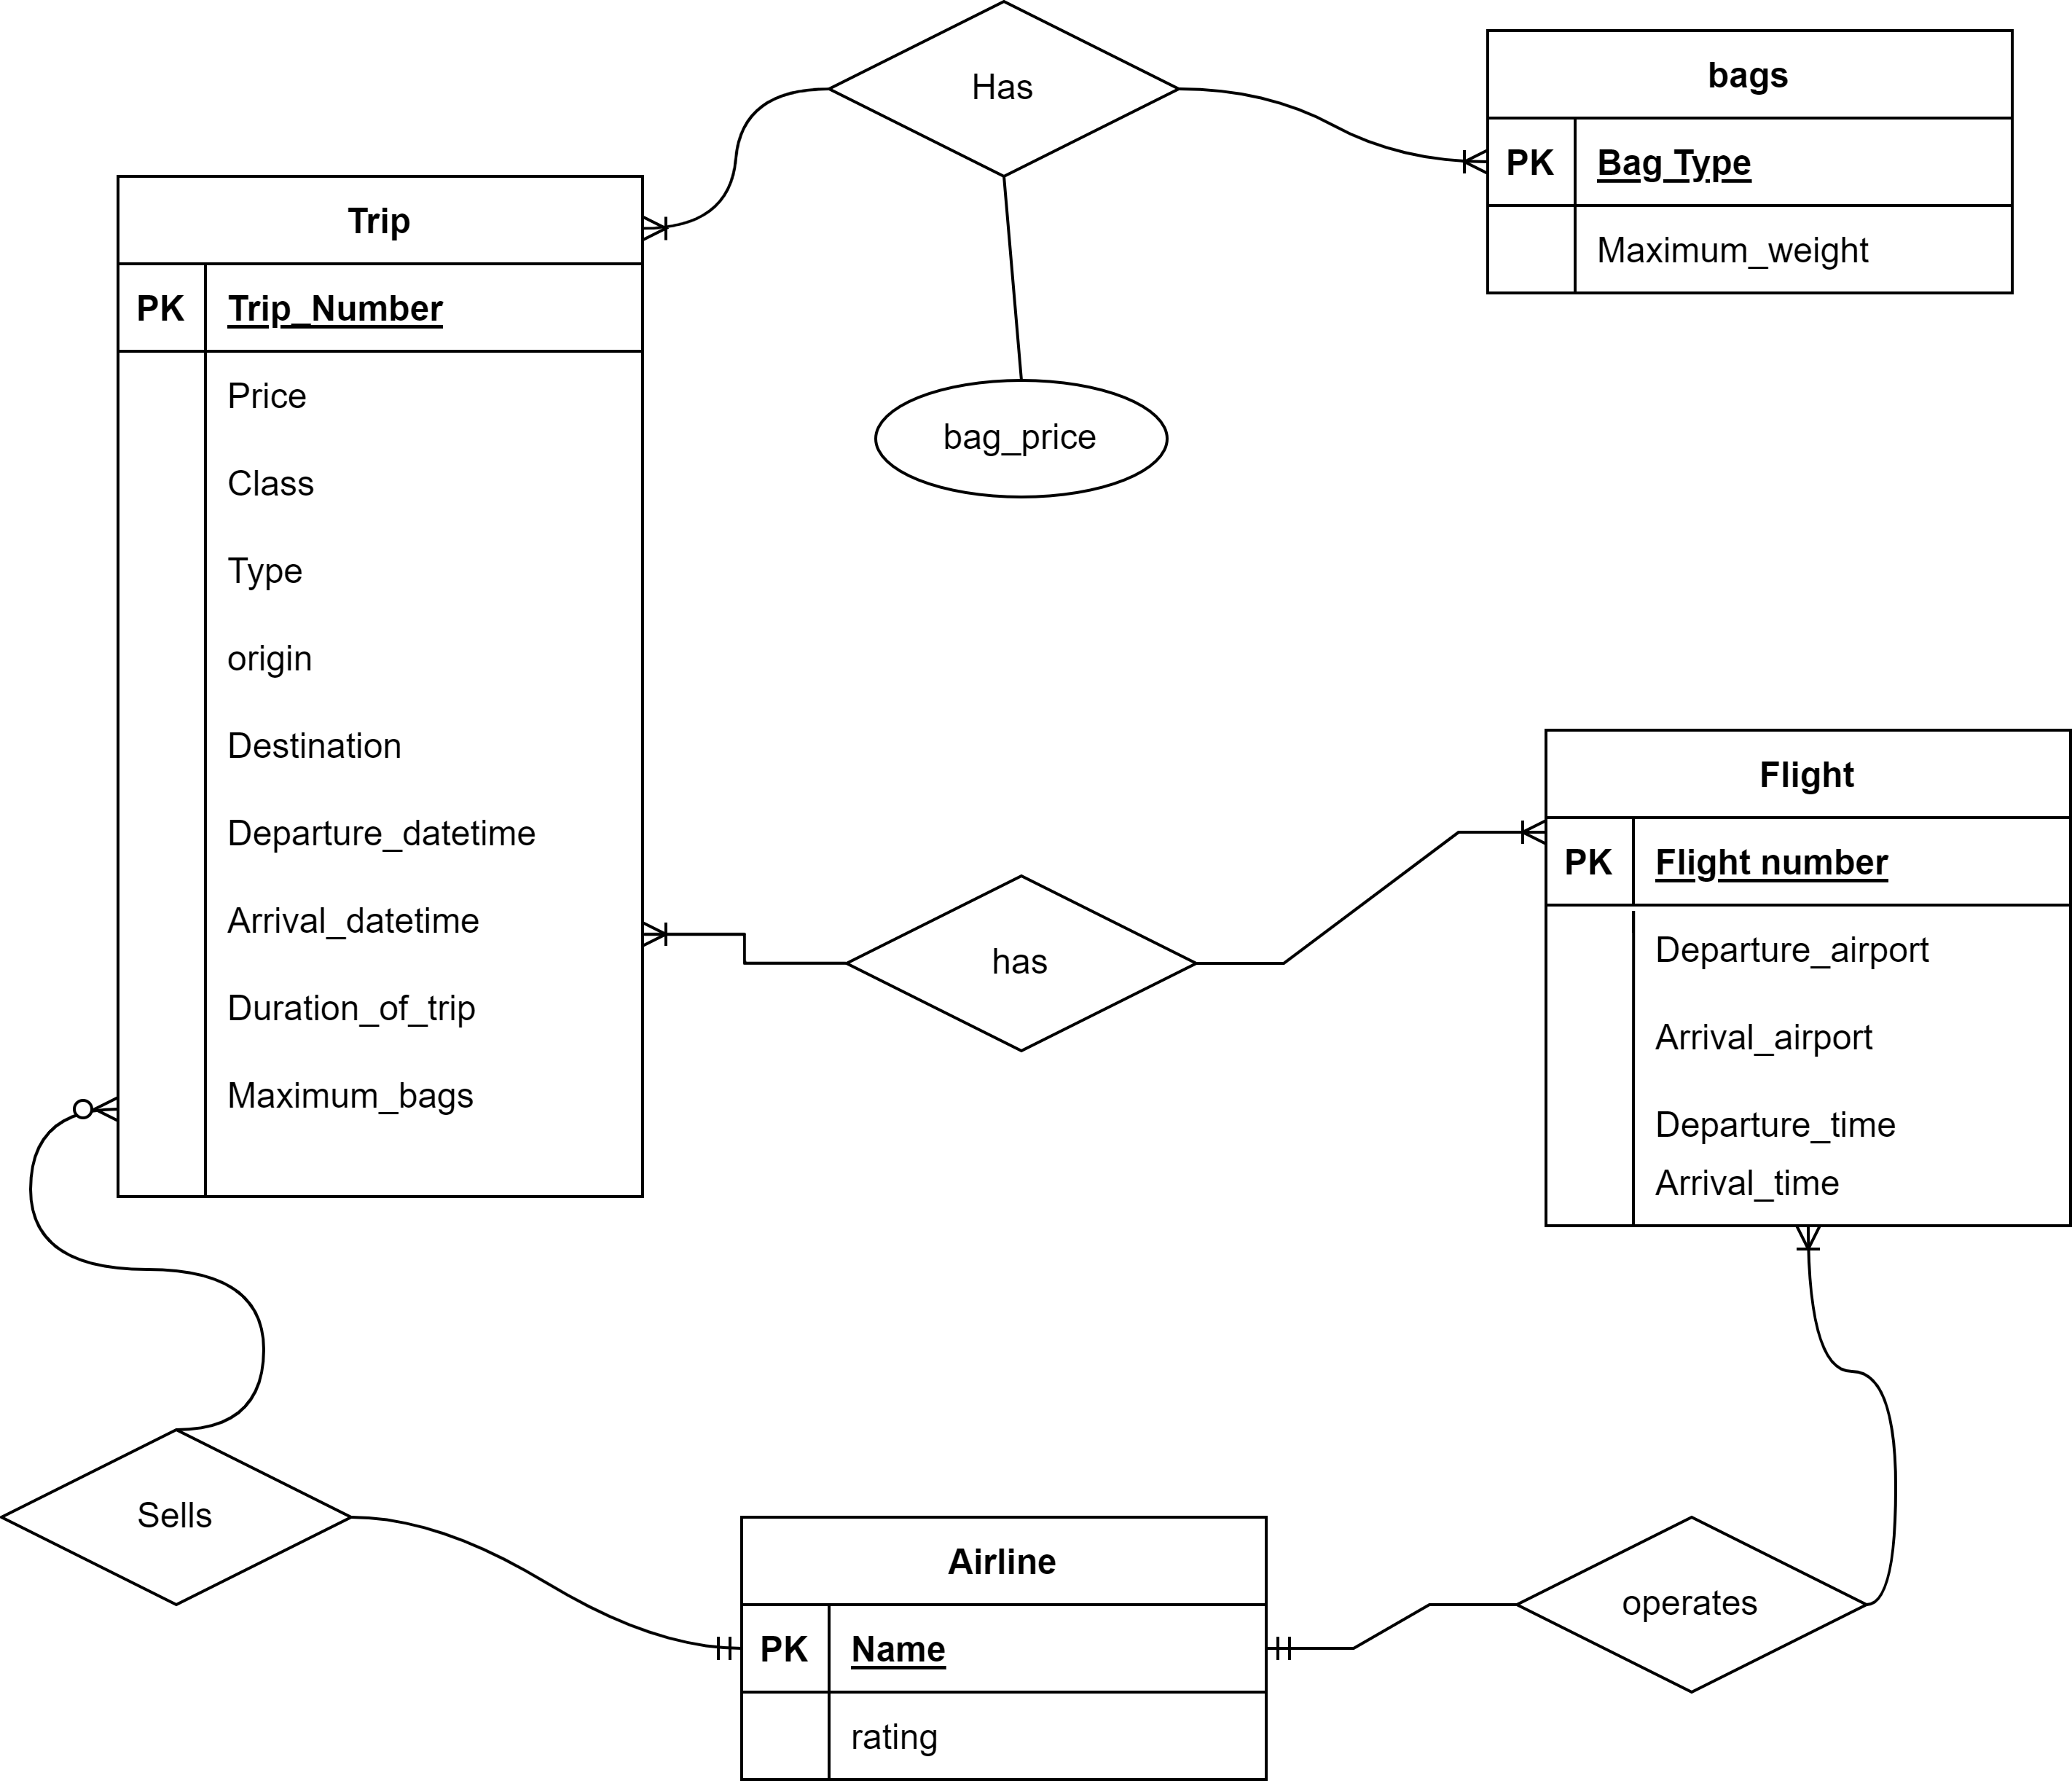entity: (115, 178, 647, 1200), (1542, 729, 2068, 1228), (1489, 23, 2010, 299), (745, 1513, 1267, 1781)
many: (1771, 1221, 1864, 1279), (640, 898, 717, 964), (1424, 127, 1487, 187), (1468, 807, 1545, 853), (60, 1082, 118, 1140), (641, 203, 705, 254)
one: (657, 1622, 738, 1674), (1267, 1614, 1323, 1681)
rel: (0, 1422, 354, 1607), (1515, 1511, 1868, 1696), (844, 874, 1195, 1059), (825, 2, 1173, 185)
rel_attr: (872, 372, 1173, 502)
